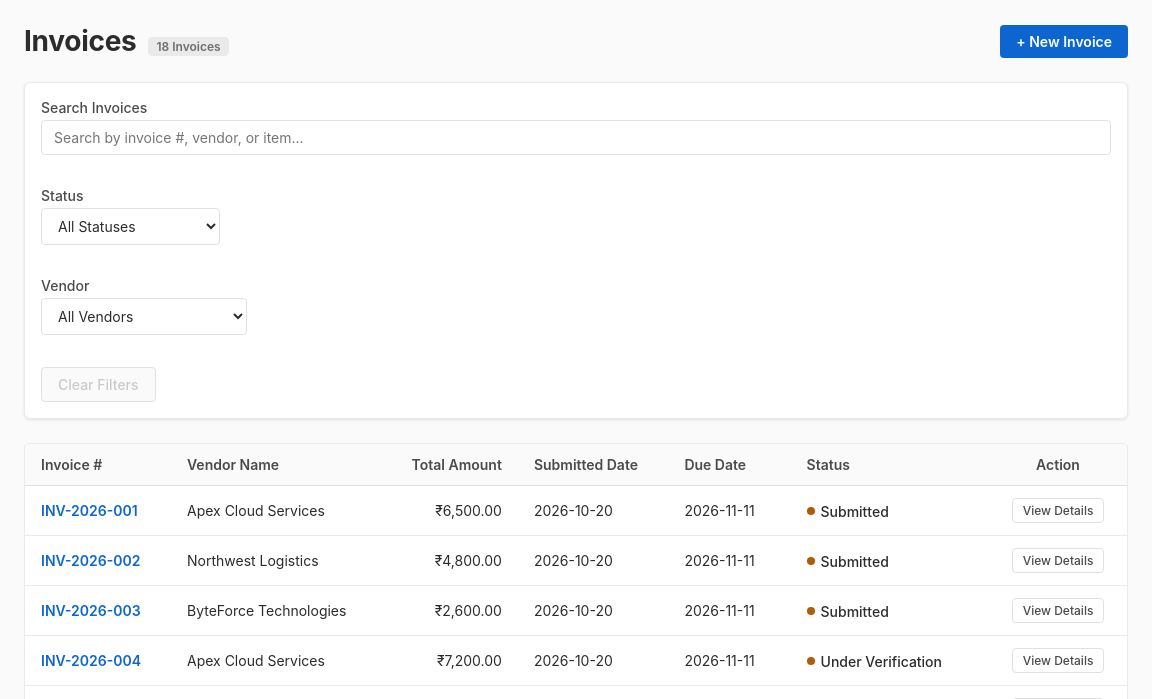
Test: InvoicesPage › Filtering Toolbar › filters invoices by search query matching invoice number
The width and height of the screenshot is (1152, 699).
expect the text "INV-2026-001" is shown: met, box [41, 502, 138, 519]
Type "INV-2026-003" into the search field with test id "invoice-search-input" at [576, 138], box [41, 120, 1111, 155]
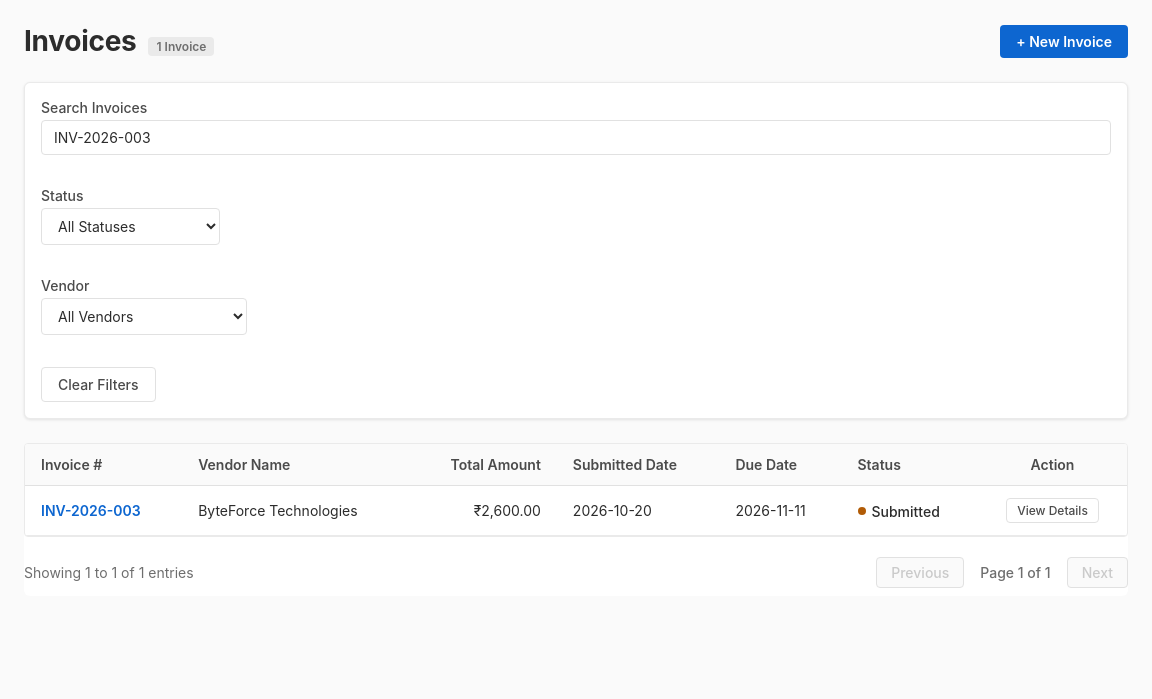
expect the text "INV-2026-003" is shown: met, box [41, 502, 141, 519]
expect the text "INV-2026-001" is gone: met
